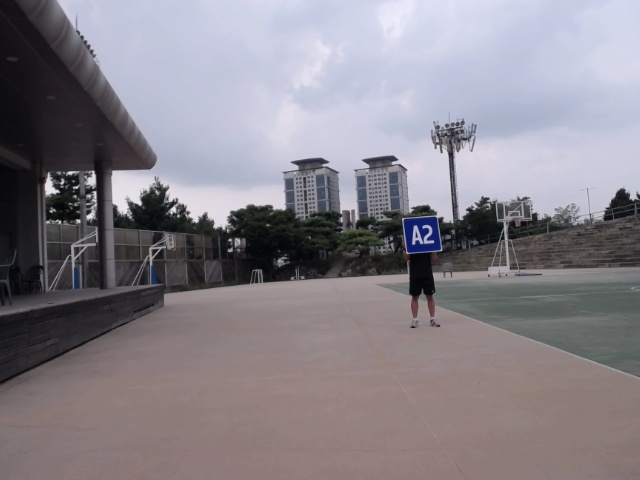delivery_a2: (402, 216, 442, 254)
